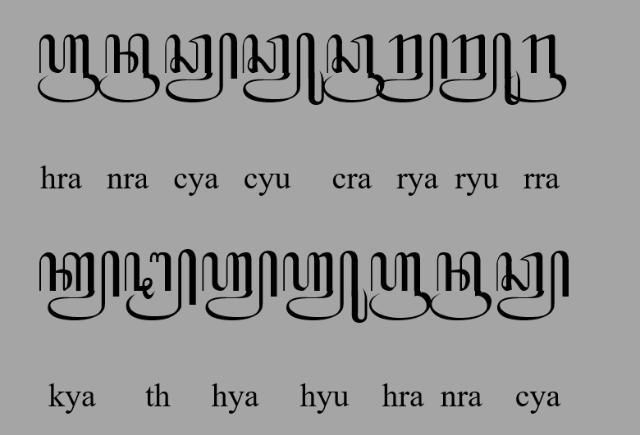-th: (125, 249, 198, 321)
cr: (324, 34, 384, 102)
cy: (496, 251, 570, 322), (164, 32, 238, 102)
cyu: (242, 32, 324, 106)
hr: (368, 252, 432, 322), (38, 33, 100, 103)
hy: (202, 250, 278, 322)
hyu: (282, 250, 370, 324)
ky: (38, 251, 120, 321)
nr: (98, 33, 160, 103), (430, 251, 492, 321)
rr: (505, 33, 567, 103)
ry: (376, 32, 448, 103)
ryu: (439, 32, 521, 107)
